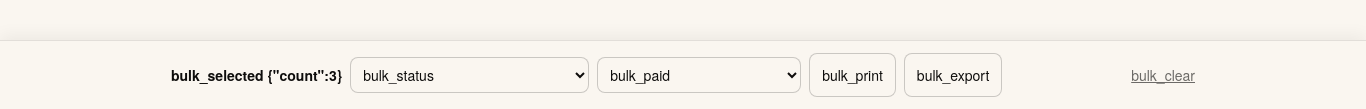
it: LedgerBulkBar › marks the eligible orders delivered after confirming, and reports the rest
Expected: the text "bulk_selected {\"count\":3}" is shown, top-left (171, 65), bottom-right (342, 85)
Select "fulfillment_status.delivered" in the dropdown named "bulk_status" at (470, 75), box top-left (350, 57), bottom-right (589, 93)
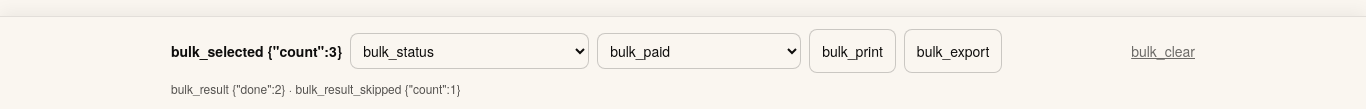
Result: the message reads "bulk_result {\"done\":2} · bulk_result_skipped {\"count\":1}" at top-left (171, 80), bottom-right (461, 97)
